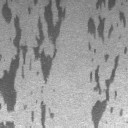red iron: (0, 0, 66, 112), (90, 54, 123, 128), (88, 0, 126, 42), (30, 98, 54, 128), (0, 121, 16, 128), (88, 44, 96, 53), (124, 48, 126, 53)
